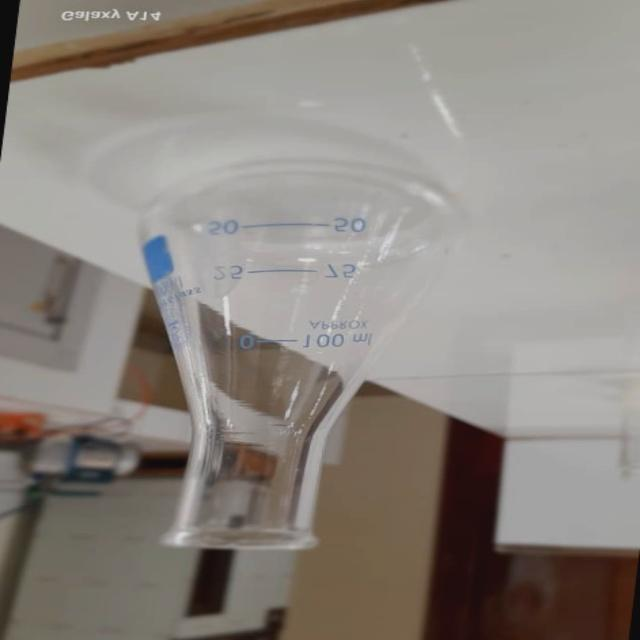Conical Flask: (90, 159, 482, 556)
